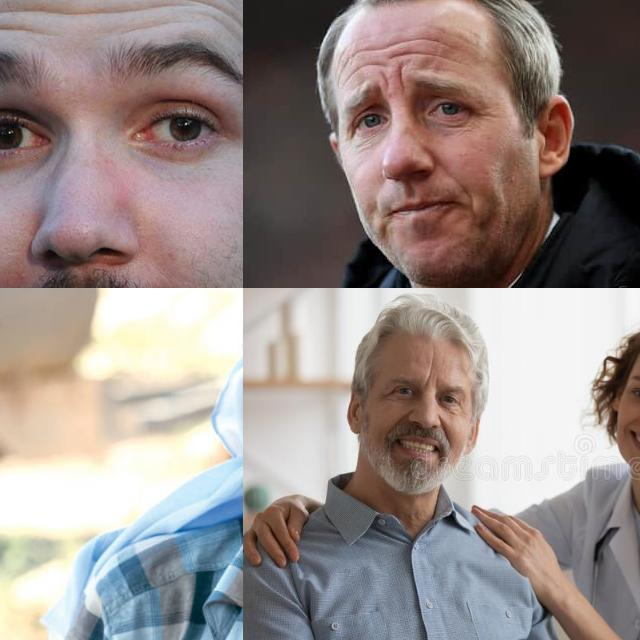forehead: (0, 2, 47, 44), (105, 0, 171, 28), (179, 0, 236, 28), (388, 42, 444, 64), (371, 32, 413, 54), (339, 45, 369, 75), (411, 27, 449, 48), (422, 341, 440, 369)
frown_line: (392, 64, 410, 95), (419, 362, 435, 388), (377, 66, 391, 95)
gummy_smile: (453, 174, 477, 208), (391, 407, 409, 427), (440, 418, 452, 444), (620, 416, 638, 430)
